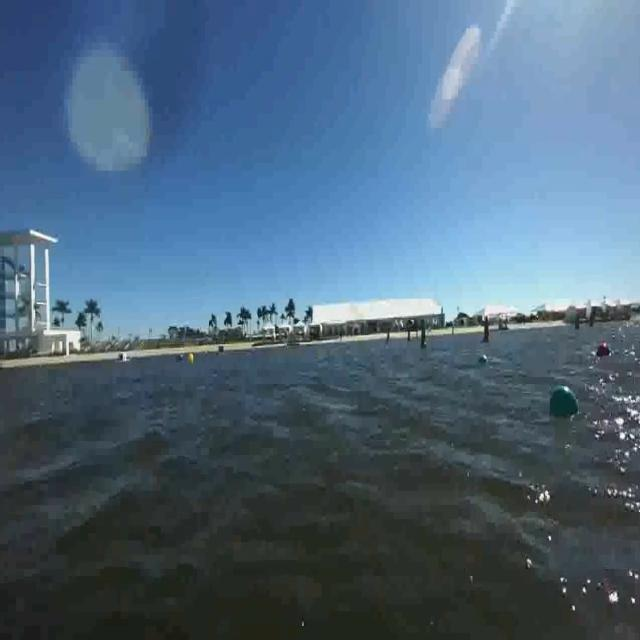green-buoy: (549, 373, 584, 443)
